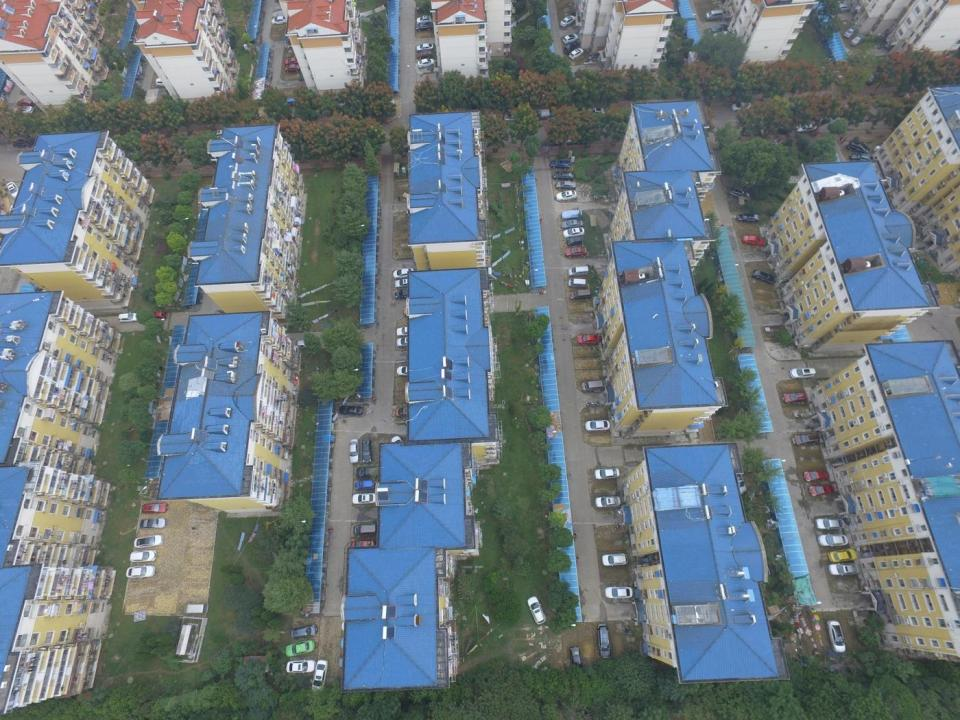car: (826, 620, 846, 653), (526, 596, 546, 624), (311, 660, 328, 692), (285, 640, 315, 657), (597, 624, 611, 658), (134, 534, 163, 549), (286, 660, 316, 674), (828, 563, 859, 576), (390, 436, 410, 456), (126, 565, 156, 578), (816, 517, 846, 530), (828, 549, 857, 562), (750, 269, 775, 284), (290, 625, 318, 638), (605, 586, 633, 599), (818, 534, 848, 546), (732, 471, 747, 494), (792, 434, 820, 446), (129, 550, 156, 562), (789, 367, 816, 379), (803, 470, 830, 482), (138, 518, 167, 529), (584, 420, 610, 432), (594, 468, 620, 480), (594, 496, 620, 508), (602, 554, 628, 566), (569, 646, 582, 670), (782, 392, 808, 404), (926, 280, 940, 302), (847, 141, 869, 155), (729, 187, 749, 202), (742, 234, 765, 247), (348, 439, 360, 463), (355, 466, 379, 478), (794, 122, 818, 134), (142, 503, 168, 514), (809, 485, 835, 496), (394, 288, 417, 300), (767, 122, 790, 134), (339, 405, 363, 416), (361, 439, 372, 463), (352, 493, 376, 504), (555, 190, 577, 202), (6, 182, 21, 199), (831, 69, 846, 86), (396, 365, 419, 376), (737, 212, 760, 223), (850, 152, 873, 163), (350, 540, 375, 550), (394, 278, 416, 289), (393, 268, 415, 279), (577, 334, 599, 345), (118, 311, 138, 323), (560, 219, 584, 229), (396, 336, 417, 347), (731, 101, 752, 112), (396, 326, 419, 336), (552, 171, 575, 181), (564, 247, 587, 257), (865, 73, 884, 85), (12, 138, 32, 149), (403, 306, 423, 317), (563, 228, 585, 238), (395, 407, 416, 417), (564, 41, 580, 54), (355, 480, 375, 490), (504, 112, 524, 122), (550, 160, 570, 170), (561, 210, 583, 219), (560, 15, 576, 27), (568, 48, 584, 60), (555, 181, 576, 190), (710, 24, 731, 33), (14, 106, 34, 115), (416, 15, 434, 25), (562, 34, 580, 44), (843, 26, 858, 38), (418, 58, 434, 69), (713, 31, 732, 40), (284, 63, 301, 73), (556, 134, 573, 144), (833, 3, 850, 13), (850, 34, 864, 46), (149, 311, 167, 320), (416, 43, 434, 52), (211, 130, 231, 138), (417, 49, 433, 59), (249, 107, 262, 119), (155, 78, 172, 87), (271, 16, 288, 25), (566, 237, 583, 246), (142, 132, 161, 140), (272, 10, 288, 19), (416, 22, 432, 31), (17, 98, 33, 106), (284, 58, 299, 66), (589, 108, 605, 115), (283, 98, 296, 106)
truck: (528, 109, 553, 121)
van: (183, 602, 209, 616), (353, 524, 376, 535), (582, 380, 604, 391), (567, 266, 589, 276), (567, 278, 586, 289), (570, 290, 590, 300), (705, 9, 723, 20), (295, 339, 311, 349)
